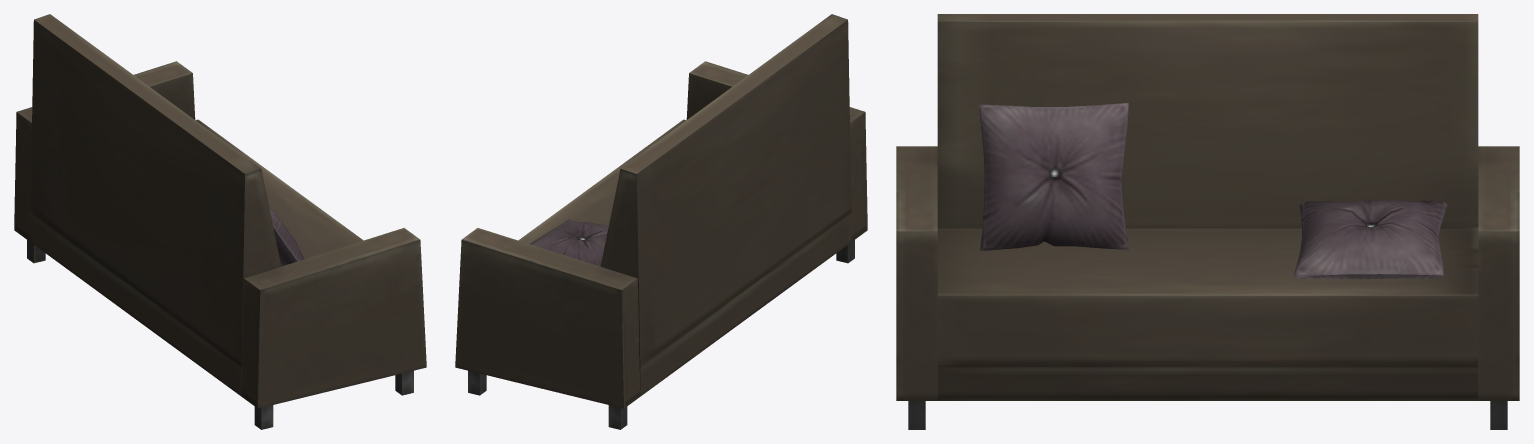
The model's file is sofa_1.fbx.
The picture shows the model from 3 angles, left to right: view 1: azimuth 30°, elevation 25°; view 2: azimuth 150°, elevation 25°; view 3: azimuth 270°, elevation 25°; orthographic projection. The views are drawn at different scales.
Parts seen in each view (by area): view 1: sofa_1_mesh; view 2: sofa_1_mesh; view 3: sofa_1_mesh.
Boxes of the visible parts, left/top/right/bottom form: sofa_1_mesh: left=14, top=14, right=426, bottom=429; sofa_1_mesh: left=455, top=14, right=867, bottom=429; sofa_1_mesh: left=896, top=14, right=1519, bottom=429.
Size of the model in its own units: 110 by 153 by 270.
